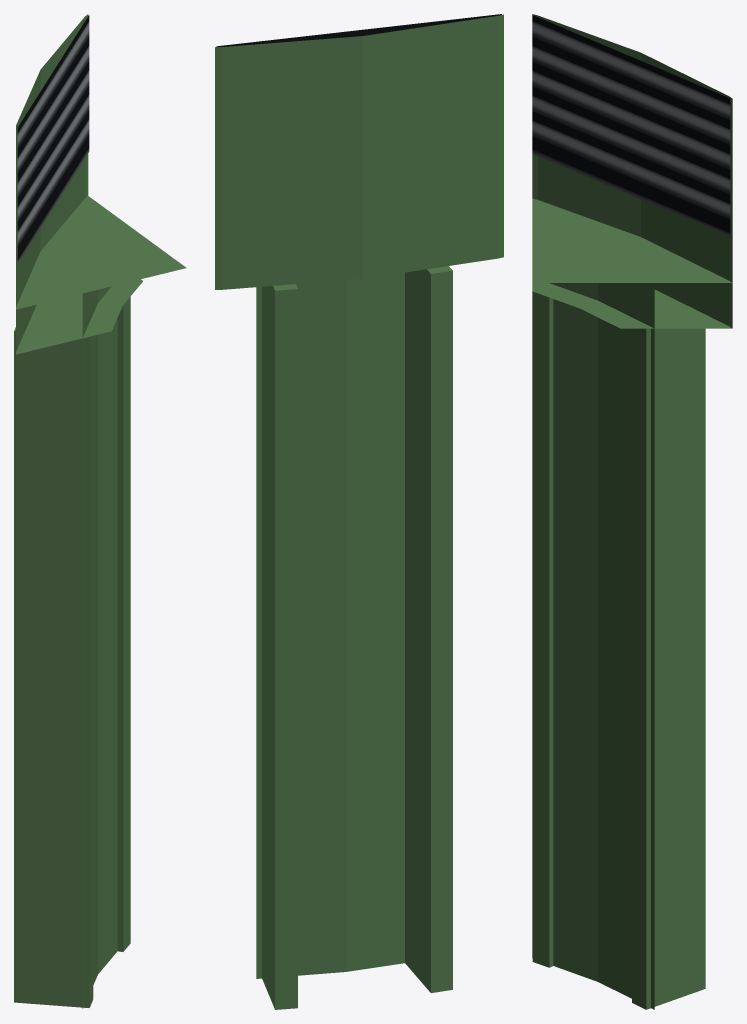
The model's file is cell_46.obj.
3 renders of one model, left to right at view 1: azimuth 30°, elevation 25°; view 2: azimuth 150°, elevation 25°; view 3: azimuth 270°, elevation 25°, orthographic. The views are drawn at different scales.
Size of the model in its own units: 0.1991 by 1 by 0.1991.
